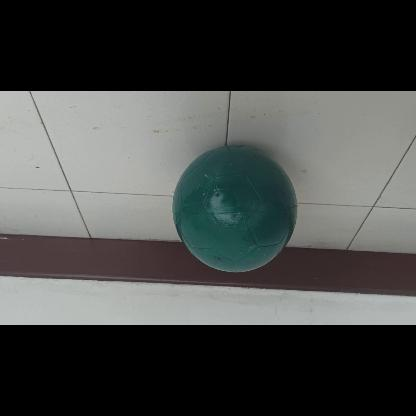green_ball: (172, 147, 298, 273)
